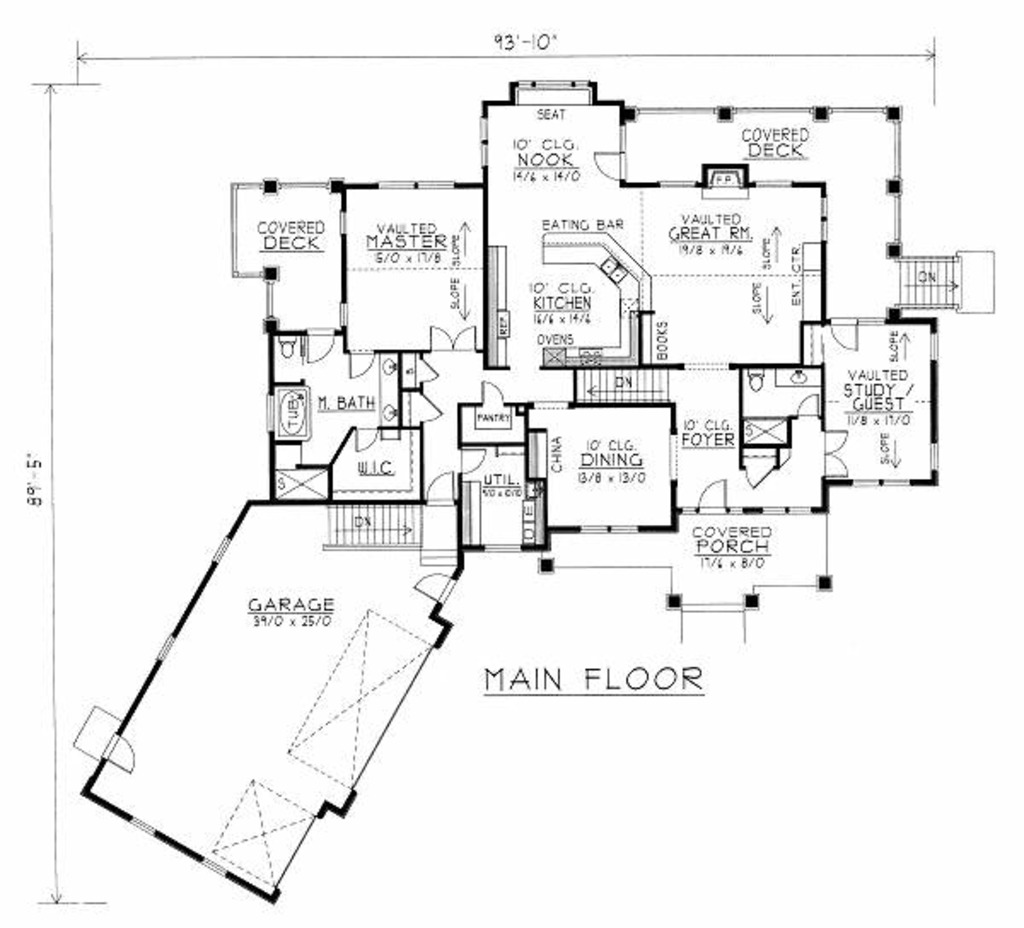door: (826, 307, 868, 358), (96, 732, 140, 773), (591, 146, 637, 185), (412, 568, 458, 606), (428, 320, 482, 352), (340, 345, 380, 386), (694, 475, 730, 517), (474, 382, 521, 414), (823, 425, 852, 475), (411, 387, 447, 426), (303, 324, 334, 365), (420, 472, 455, 505), (747, 455, 781, 487), (356, 426, 386, 460), (797, 391, 830, 421), (457, 448, 489, 476), (417, 358, 441, 386)
large_sink: (276, 334, 299, 367), (743, 362, 766, 392)
small_sink: (376, 355, 405, 431), (779, 365, 824, 385)
stairs: (313, 500, 457, 565), (887, 246, 1001, 319), (573, 372, 675, 405)
twin_sink: (594, 246, 635, 300)
window: (374, 174, 460, 196), (471, 114, 498, 168), (814, 186, 840, 242), (922, 441, 953, 479), (155, 634, 189, 668), (206, 534, 241, 565), (574, 523, 645, 537), (200, 850, 230, 883), (124, 817, 173, 837), (924, 326, 946, 363), (756, 175, 796, 190)
